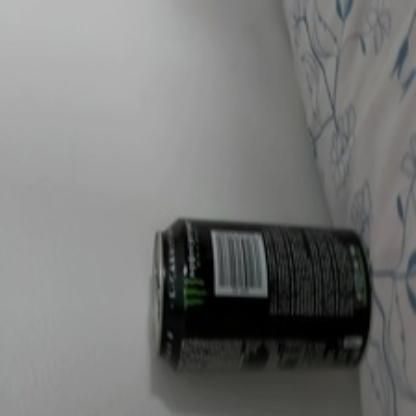Can: (150, 218, 374, 374)
